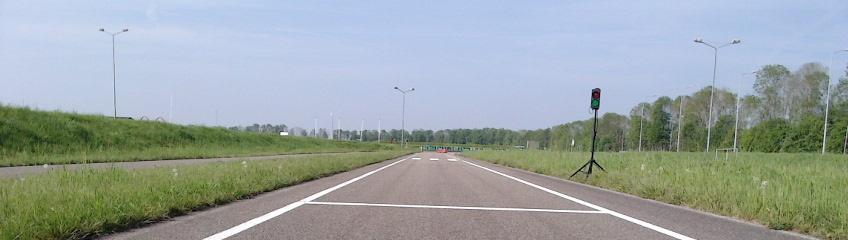TrafficLight-green: (591, 89, 600, 109)
